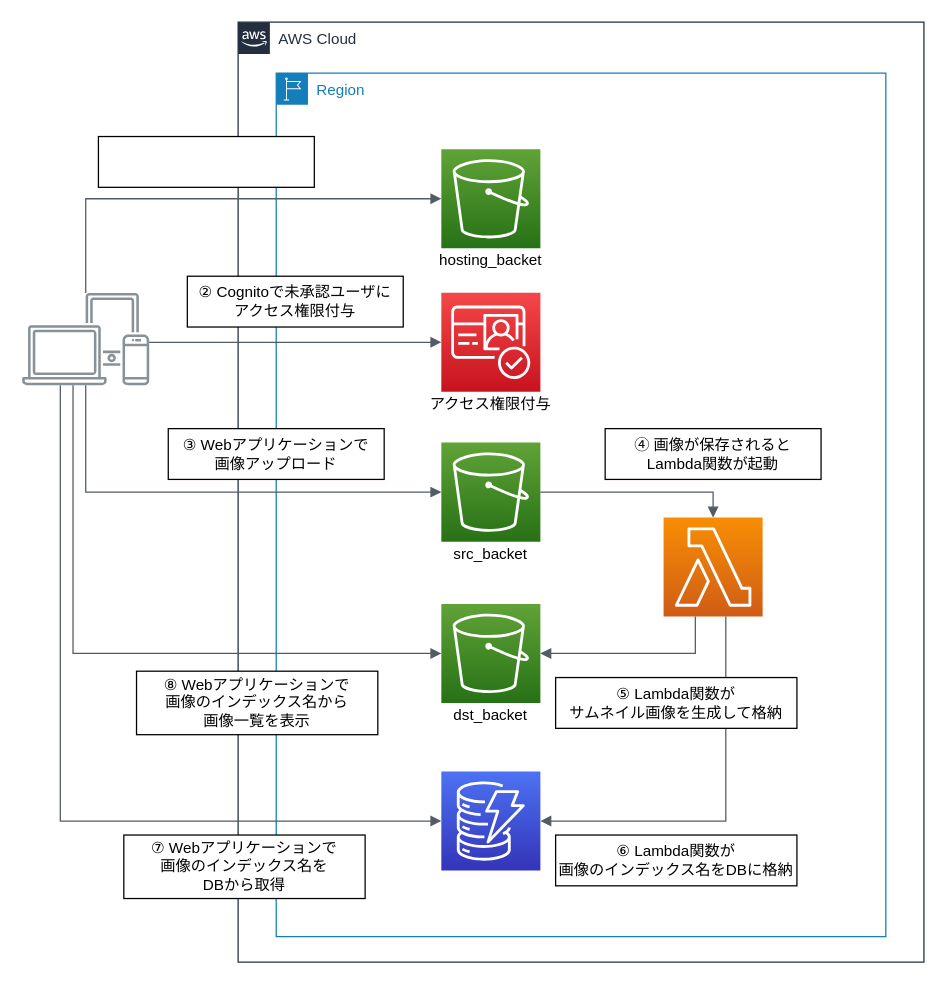
This 946x984 diagram has some shape labels left out. The shapes that lost their labels are listed below. From the top down, each one's centre as x and y in pixels, then its label:
(x=205, y=161): ① Webアプリケーションに アクセス
(x=85, y=338): devices
